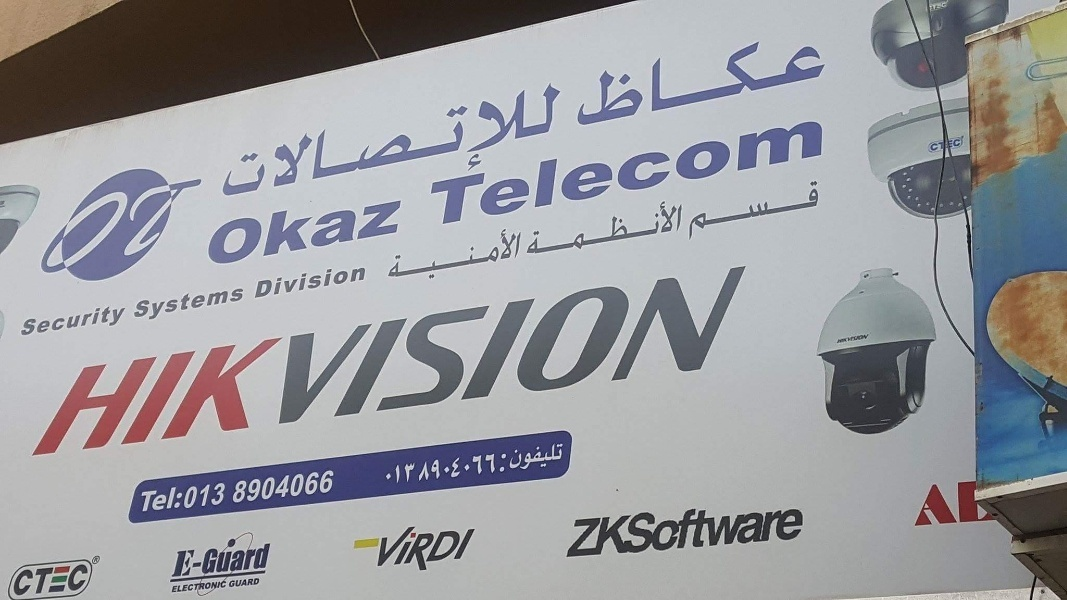text: (97, 265, 112, 457), (113, 265, 128, 457), (129, 265, 144, 457), (145, 265, 160, 457), (161, 265, 176, 457), (177, 265, 192, 457), (193, 265, 208, 457), (209, 265, 224, 457), (225, 265, 240, 457), (241, 265, 256, 457), (257, 265, 272, 457), (273, 265, 288, 457), (289, 265, 304, 457), (305, 265, 320, 457), (321, 265, 336, 457), (337, 265, 352, 457), (353, 265, 368, 457), (369, 265, 384, 457), (385, 265, 400, 457), (401, 265, 416, 457), (417, 265, 432, 457), (433, 265, 448, 457), (449, 265, 464, 457), (465, 265, 480, 457), (481, 265, 496, 457), (497, 265, 512, 457), (513, 265, 528, 457), (529, 265, 544, 457), (545, 265, 560, 457), (561, 265, 576, 457), (577, 265, 592, 457), (593, 265, 608, 457), (609, 265, 624, 457), (625, 265, 640, 457), (641, 265, 656, 457), (657, 265, 672, 457), (673, 265, 688, 457), (689, 265, 704, 457), (705, 265, 720, 457), (721, 265, 736, 457), (737, 265, 748, 457), (86, 265, 96, 457), (241, 79, 256, 206), (257, 79, 272, 206), (273, 79, 288, 206), (289, 79, 304, 206), (305, 79, 320, 206), (321, 79, 336, 206), (337, 79, 352, 206), (353, 79, 368, 206), (369, 79, 384, 206), (385, 79, 400, 206), (401, 79, 416, 206), (417, 79, 432, 206), (433, 79, 448, 206), (449, 79, 464, 206), (465, 79, 480, 206), (481, 79, 496, 206), (497, 79, 512, 206), (513, 79, 528, 206), (529, 79, 544, 206), (545, 79, 560, 206), (433, 115, 448, 228), (449, 115, 464, 228), (465, 115, 480, 228), (481, 115, 496, 228), (497, 115, 512, 228), (513, 115, 528, 228), (529, 115, 544, 228), (545, 115, 560, 228), (561, 115, 576, 228), (577, 115, 592, 228), (593, 115, 608, 228), (609, 115, 624, 228), (625, 115, 640, 228), (641, 115, 656, 228), (657, 115, 672, 228), (673, 115, 688, 228), (689, 115, 704, 228), (705, 115, 720, 228), (721, 115, 736, 228), (737, 115, 752, 228), (753, 115, 768, 228), (769, 115, 784, 228), (785, 115, 800, 228), (801, 115, 816, 228), (65, 179, 80, 281), (81, 179, 96, 281), (97, 179, 112, 281), (113, 179, 128, 281), (577, 32, 592, 128), (593, 32, 608, 128), (609, 32, 624, 128), (625, 32, 640, 128), (641, 32, 656, 128), (657, 32, 672, 128), (673, 32, 688, 128), (689, 32, 704, 128), (705, 32, 720, 128), (721, 32, 736, 128), (737, 32, 752, 128), (753, 32, 768, 128), (769, 32, 784, 128), (785, 32, 800, 128), (801, 32, 816, 128), (52, 179, 64, 281), (145, 177, 160, 258), (161, 177, 176, 258), (177, 177, 192, 258), (817, 32, 829, 128), (225, 198, 240, 269), (241, 198, 256, 269), (257, 198, 272, 269), (273, 198, 288, 269), (289, 198, 304, 269), (305, 198, 320, 269), (321, 198, 336, 269), (337, 198, 352, 269), (353, 198, 368, 269), (369, 198, 384, 269), (385, 198, 400, 269), (193, 177, 205, 258), (705, 179, 720, 242), (721, 179, 736, 242), (737, 179, 752, 242), (753, 179, 768, 242), (769, 179, 784, 242), (785, 179, 800, 242), (801, 179, 816, 242), (545, 198, 560, 259), (561, 198, 576, 259), (577, 198, 592, 259), (593, 198, 608, 259), (609, 198, 624, 259), (625, 198, 640, 259), (641, 198, 656, 259), (657, 198, 672, 259), (401, 225, 416, 286), (417, 225, 432, 286), (433, 225, 448, 286), (449, 225, 464, 286), (465, 225, 480, 286), (481, 225, 496, 286), (497, 225, 512, 286), (133, 177, 144, 258), (577, 502, 592, 558), (593, 502, 608, 558), (609, 502, 624, 558), (625, 502, 640, 558), (641, 502, 656, 558), (657, 502, 672, 558), (673, 502, 688, 558), (689, 502, 704, 558), (705, 502, 720, 558), (721, 502, 736, 558), (737, 502, 752, 558), (753, 502, 768, 558), (769, 502, 784, 558), (785, 502, 800, 558), (817, 115, 824, 228), (213, 198, 224, 269), (234, 79, 240, 206), (692, 179, 704, 242), (929, 479, 944, 528), (945, 479, 960, 528), (961, 479, 976, 528), (977, 479, 992, 528), (532, 198, 544, 259), (385, 527, 400, 574), (401, 527, 416, 574), (417, 527, 432, 574), (433, 527, 448, 574), (449, 527, 464, 574), (673, 198, 684, 259), (513, 225, 524, 286), (401, 443, 416, 486), (417, 443, 432, 486), (433, 443, 448, 486), (449, 443, 464, 486), (465, 443, 480, 486), (481, 443, 496, 486), (497, 443, 512, 486), (513, 443, 528, 486), (529, 443, 544, 486), (545, 443, 560, 486), (129, 179, 135, 281), (916, 479, 928, 528), (145, 284, 160, 323), (161, 284, 176, 323), (177, 284, 192, 323), (193, 284, 208, 323), (209, 284, 224, 323), (225, 284, 240, 323), (570, 32, 576, 128), (241, 467, 256, 505), (257, 467, 272, 505), (273, 467, 288, 505), (289, 467, 304, 505), (305, 467, 320, 505), (321, 467, 336, 505), (273, 264, 288, 301), (289, 264, 304, 301), (305, 264, 320, 301), (321, 264, 336, 301), (337, 264, 352, 301), (353, 264, 368, 301), (33, 303, 48, 340), (49, 303, 64, 340), (65, 303, 80, 340), (81, 303, 96, 340), (97, 303, 112, 340), (193, 543, 208, 578), (209, 543, 224, 578), (225, 543, 240, 578), (241, 543, 256, 578), (258, 264, 272, 301), (113, 303, 127, 340), (388, 443, 400, 486), (178, 543, 192, 578), (257, 543, 271, 578), (392, 225, 400, 286), (145, 480, 160, 512), (161, 480, 176, 512), (177, 480, 192, 512), (193, 480, 208, 512), (209, 480, 224, 512), (465, 527, 475, 574), (132, 284, 144, 323), (33, 565, 48, 596), (18, 565, 32, 596), (22, 303, 32, 340), (993, 479, 1000, 528), (429, 115, 432, 228), (801, 502, 807, 558), (929, 134, 944, 155), (945, 134, 960, 155), (81, 564, 91, 592), (234, 467, 240, 505), (72, 564, 80, 592), (49, 565, 56, 596), (177, 580, 192, 594), (193, 580, 208, 594), (209, 580, 224, 594), (849, 333, 864, 346), (817, 179, 820, 242), (241, 577, 256, 588), (241, 284, 245, 323), (401, 198, 403, 269), (838, 333, 848, 346), (561, 443, 564, 486), (561, 79, 562, 206), (229, 577, 240, 588), (932, 1, 944, 10), (865, 333, 871, 346), (225, 580, 230, 594), (142, 480, 144, 512), (225, 480, 227, 512), (961, 134, 964, 155), (257, 577, 262, 588), (383, 527, 384, 574), (945, 1, 950, 10), (173, 580, 176, 594), (337, 467, 338, 505), (927, 134, 928, 155)
